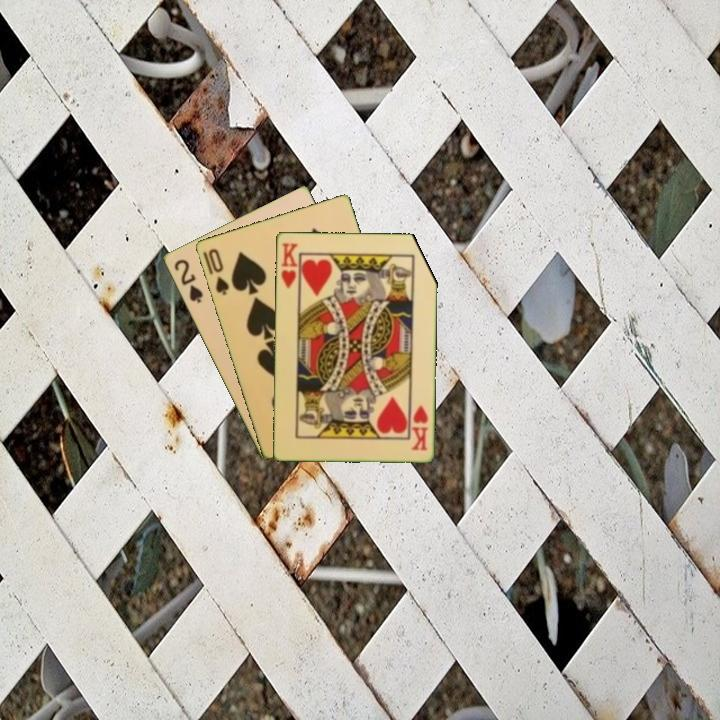10s: (204, 245, 231, 298)
2s: (170, 255, 205, 306)
Kh: (278, 239, 301, 294), (408, 401, 430, 453)
